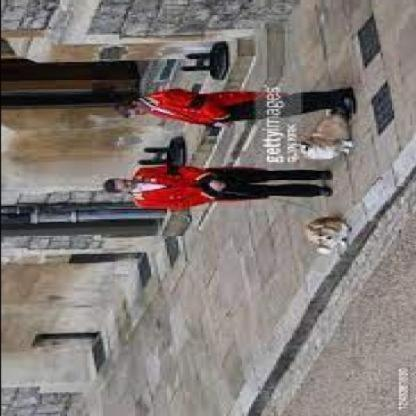dog: (286, 110, 356, 162), (304, 215, 359, 255)
